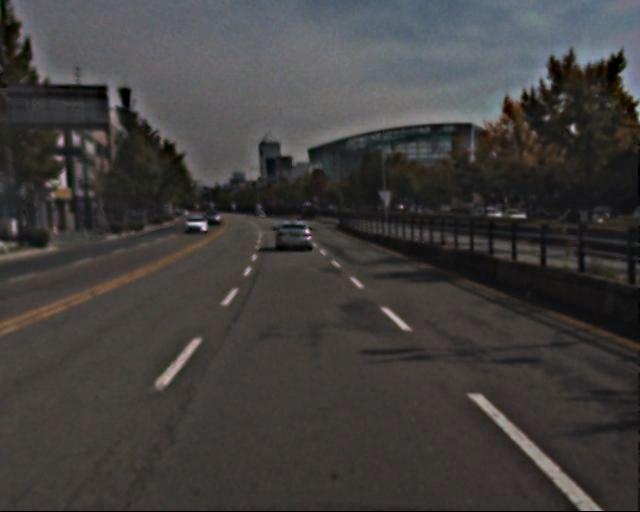person: (560, 202, 585, 261)
